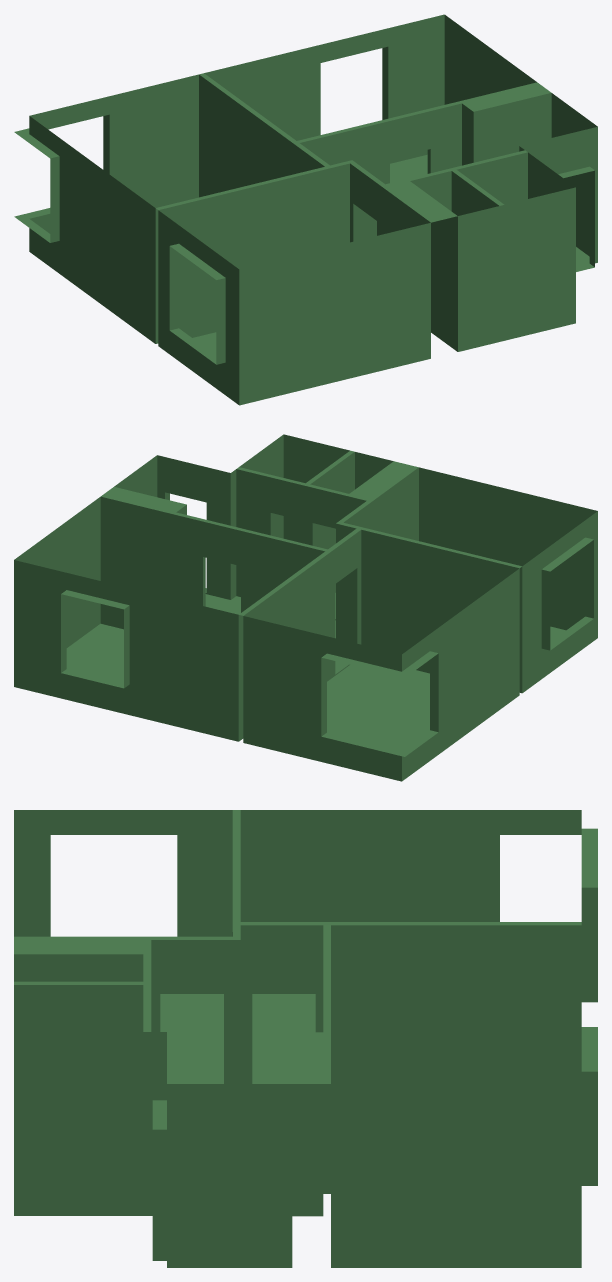
File: Rooms_A_3_3_50.FBX
The picture shows the model from 3 angles, top to bottom: view 1: azimuth 30°, elevation 25°; view 2: azimuth 150°, elevation 25°; view 3: azimuth 270°, elevation 25°; orthographic projection. The views are drawn at different scales.
Visible parts, largest first — view 1: Rooms_A_3_3_50; view 2: Rooms_A_3_3_50; view 3: Rooms_A_3_3_50.
Part boxes in pixels (x1=…): Rooms_A_3_3_50: x1=14, y1=14, x2=597, y2=405; Rooms_A_3_3_50: x1=14, y1=434, x2=597, y2=781; Rooms_A_3_3_50: x1=14, y1=810, x2=597, y2=1267.
Bounding box in the file's own units: 9.14 × 2.8 × 8.06.
